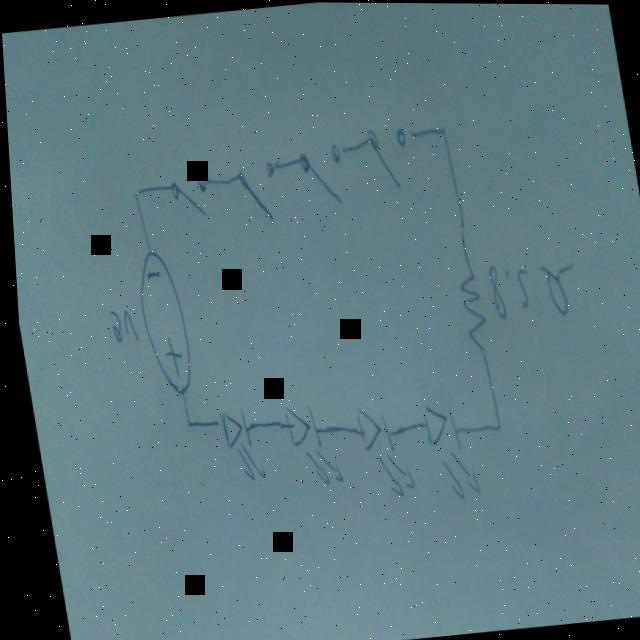diode: (412, 395, 477, 508), (345, 397, 410, 501), (275, 394, 339, 492), (210, 399, 262, 489)
junction: (433, 120, 447, 147), (126, 183, 140, 208), (484, 411, 497, 436), (176, 411, 190, 434)
resistor: (450, 259, 486, 361)
source: (125, 243, 193, 401)
switch: (362, 117, 416, 193), (293, 141, 348, 209), (231, 154, 283, 225), (163, 168, 211, 227)
text: (480, 250, 575, 326), (99, 300, 136, 350)
